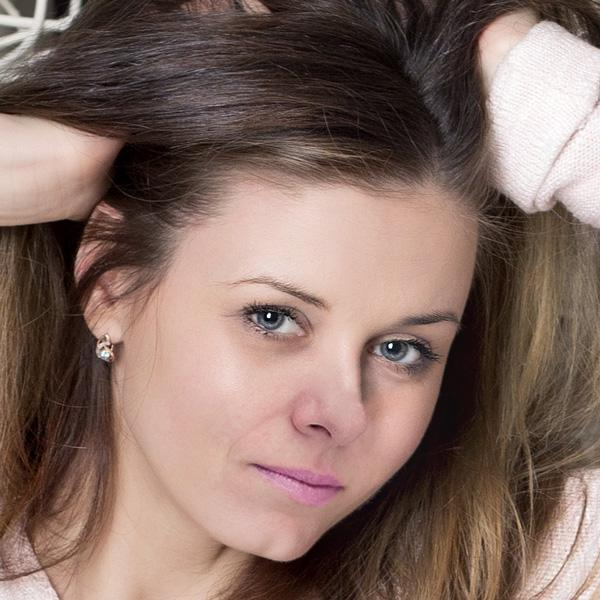Eyes: (356, 324, 438, 384), (230, 294, 317, 350)
